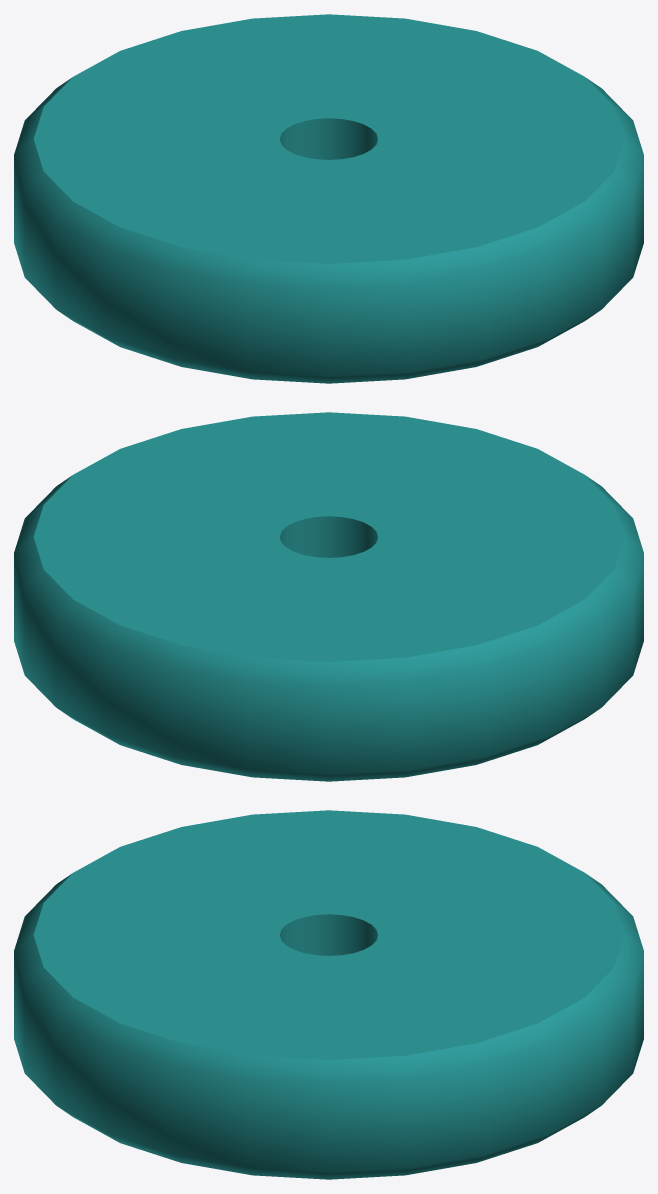
The model's file is ring4.gltf.
3 views of the same model, one above another, from view 1: azimuth 30°, elevation 25°; view 2: azimuth 150°, elevation 25°; view 3: azimuth 270°, elevation 25° (orthographic).
Parts seen in each view (by area): view 1: 4; view 2: 4; view 3: 4.
Boxes of the visible parts, x1,y1,x2,y2 form: 4: (14,14,643,383); 4: (14,412,643,781); 4: (14,810,643,1179).
Bounding box in the file's own units: 0.7315 × 0.1534 × 0.7315.
